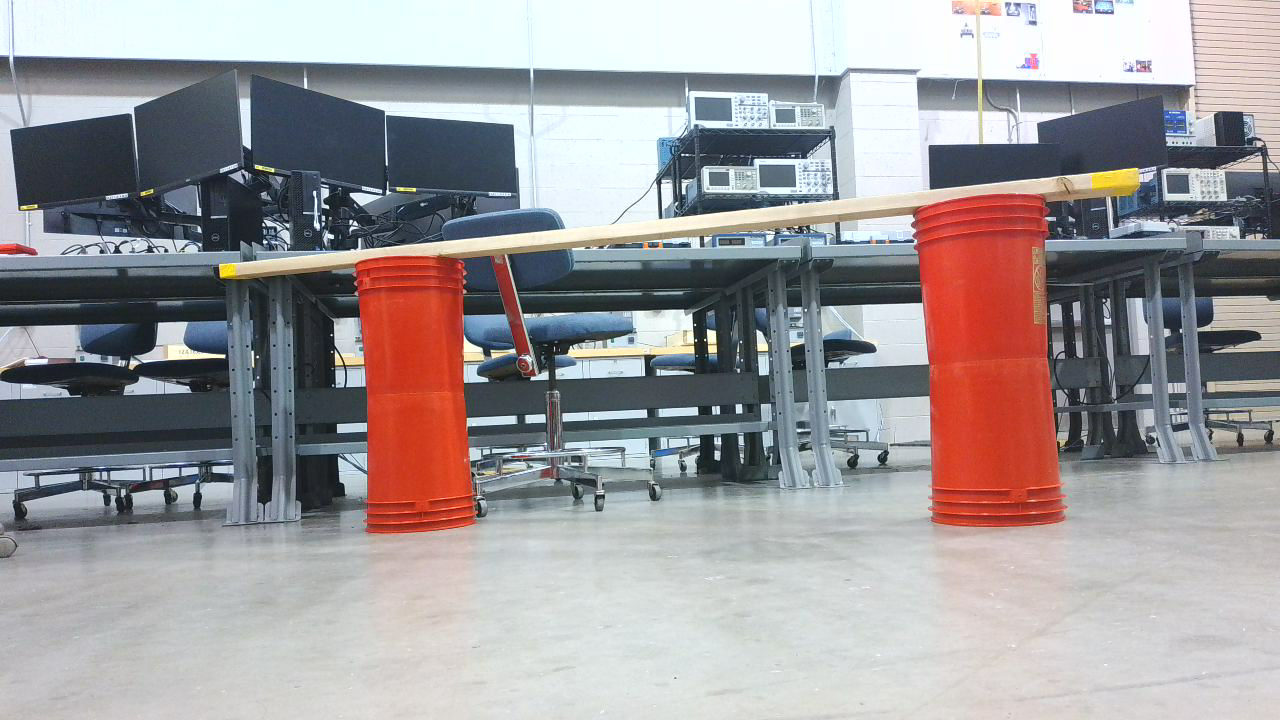red_bucket_arch: (356, 179, 1077, 545)
